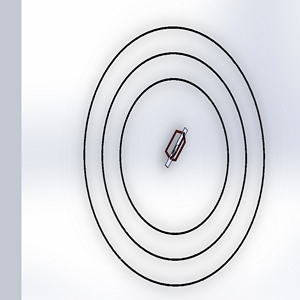circle: (75, 21, 278, 293)
submarine: (156, 122, 199, 183)
